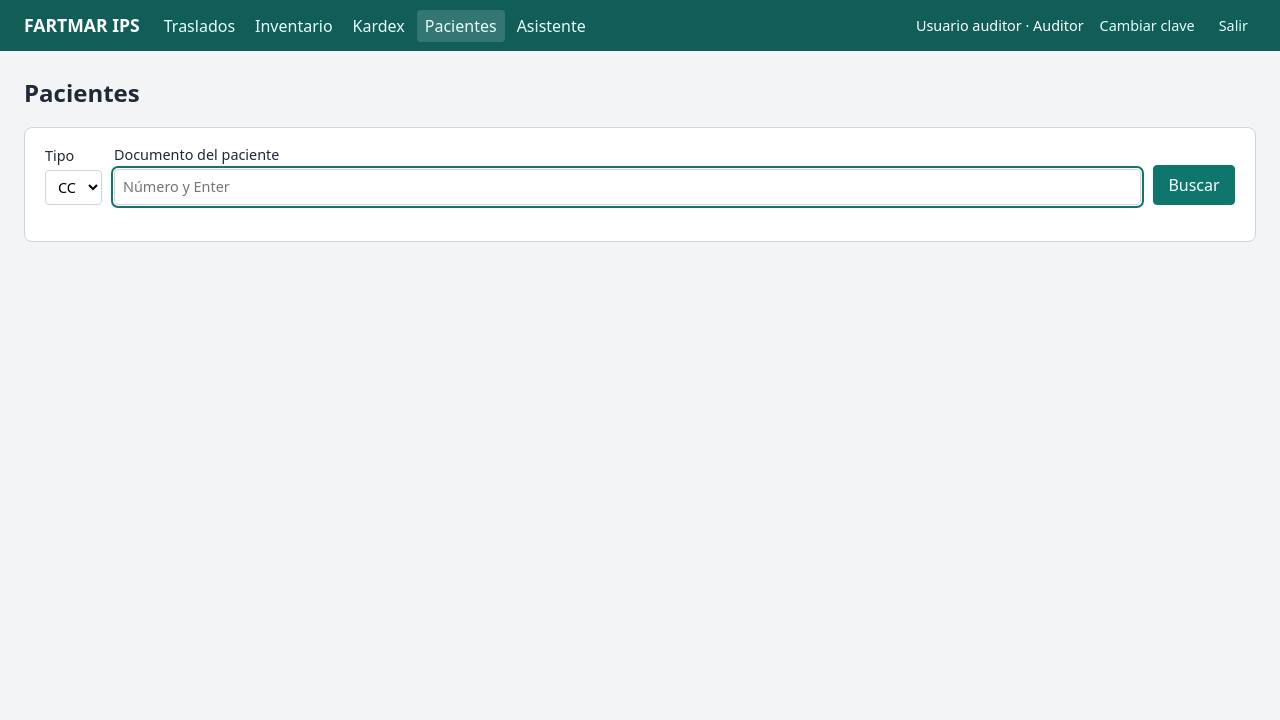
Test: Prescripción del médico › el auditor no ve el formulario de prescripción
Type "9900000001" into the field labelled "Documento del paciente" at (628, 187), box [114,169,1141,205]
Then press Enter
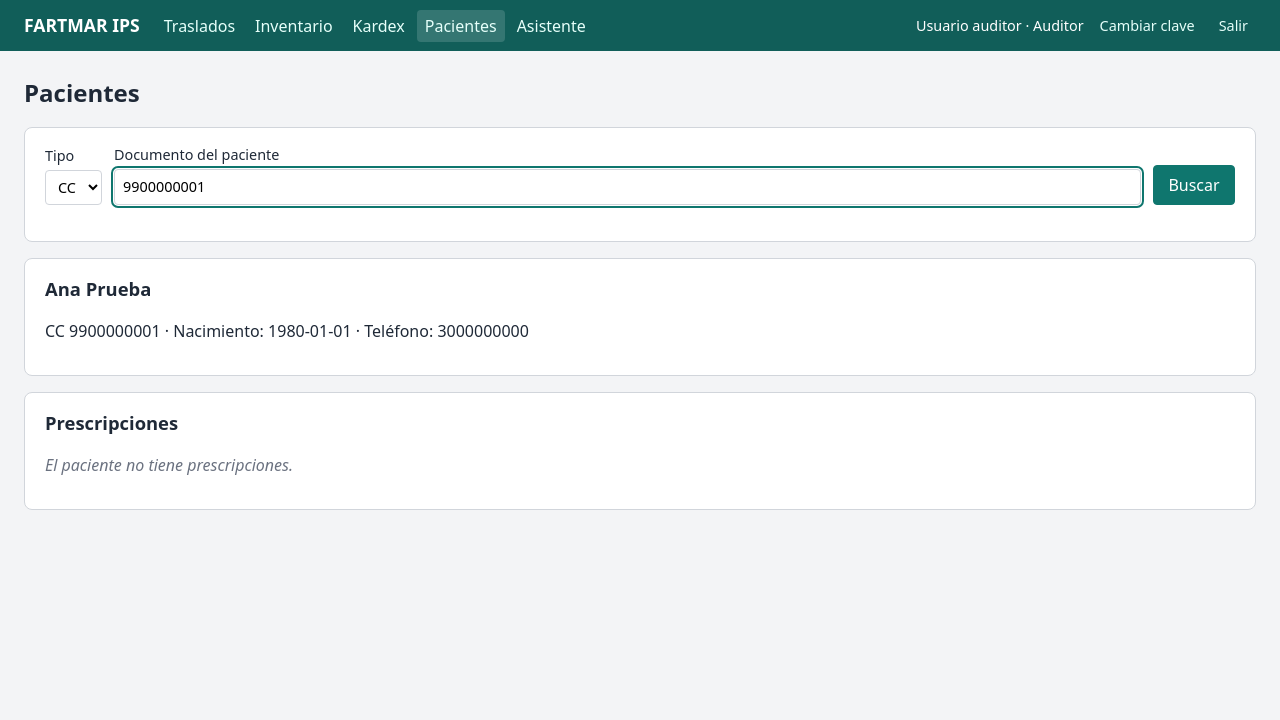
Expected: the text "El paciente no tiene prescripciones." is shown, [45,454,293,476]
